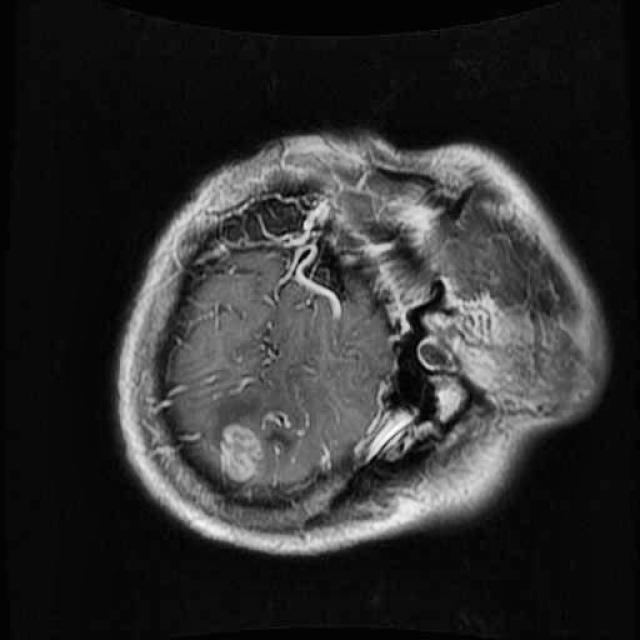Non-Tumor: (208, 415, 276, 490)
